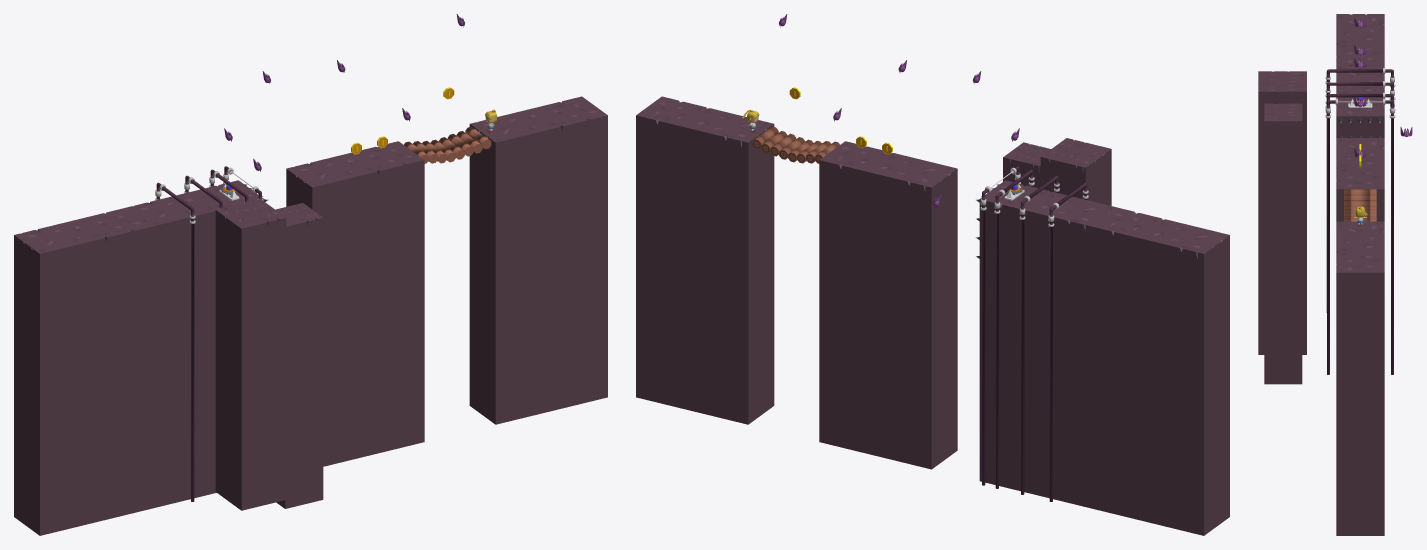
The model's file is tiplayCase.fbx.
3 renders of one model, left to right at view 1: azimuth 30°, elevation 25°; view 2: azimuth 150°, elevation 25°; view 3: azimuth 270°, elevation 25°, orthographic. The views are drawn at different scales.
Parts seen in each view (by area): view 1: Platform.004, Platform.002, Platform.001, Platform.005, Platform.003, Platform.006, Pipe.002; view 2: Platform.004, Platform.001, Platform.002, Platform.003, Platform.005, Pipe.001, Pipe, Pipe.002, Laser, Platform.006; view 3: Platform.002, Platform.006, Platform.005, Platform.001, Platform.003, Platform.004, Laser, Pipe.002, Pipe.001, Pipe, Log.002.
Part boxes in pixels (x1=…): Platform.004: x1=14, y1=207, x2=152, y2=535; Platform.002: x1=469, y1=96, x2=607, y2=424; Platform.001: x1=286, y1=141, x2=424, y2=466; Platform.005: x1=215, y1=199, x2=286, y2=510; Platform.003: x1=126, y1=180, x2=264, y2=508; Platform.006: x1=275, y1=203, x2=323, y2=508; Pipe.002: x1=155, y1=182, x2=195, y2=501; Platform.004: x1=1091, y1=207, x2=1229, y2=535; Platform.001: x1=819, y1=141, x2=957, y2=469; Platform.002: x1=636, y1=96, x2=774, y2=424; Platform.003: x1=979, y1=180, x2=1117, y2=508; Platform.005: x1=1040, y1=138, x2=1111, y2=205; Pipe.001: x1=1019, y1=175, x2=1059, y2=494; Pipe: x1=994, y1=169, x2=1034, y2=488; Pipe.002: x1=1048, y1=182, x2=1088, y2=501; Laser: x1=980, y1=166, x2=1020, y2=485; Platform.006: x1=1003, y1=142, x2=1050, y2=188; Platform.002: x1=1336, y1=221, x2=1384, y2=535; Platform.006: x1=1264, y1=103, x2=1302, y2=384; Platform.005: x1=1258, y1=71, x2=1306, y2=354; Platform.001: x1=1336, y1=138, x2=1384, y2=221; Platform.003: x1=1336, y1=65, x2=1384, y2=138; Platform.004: x1=1336, y1=14, x2=1384, y2=65; Laser: x1=1325, y1=98, x2=1395, y2=374; Pipe.002: x1=1325, y1=68, x2=1395, y2=87; Pipe.001: x1=1325, y1=81, x2=1395, y2=100; Pipe: x1=1325, y1=92, x2=1395, y2=110; Log.002: x1=1344, y1=194, x2=1376, y2=200.
Bounding box in the file's own units: 25.29 × 17.21 × 6.36.
